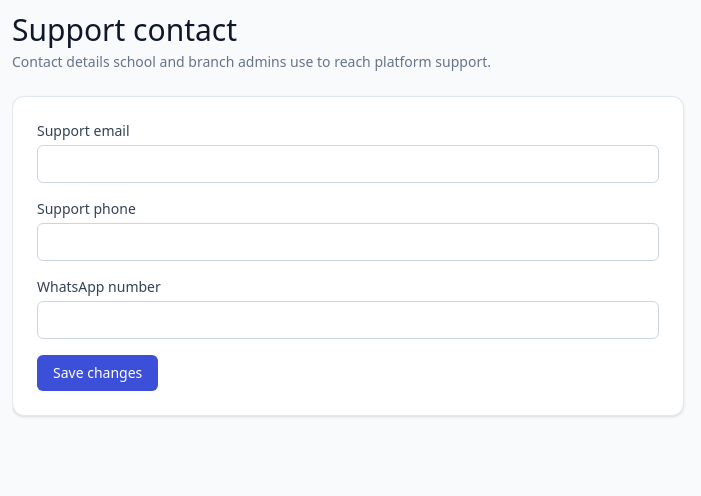
Test: AdminSupportContactPage › loads the current values, edits them, saves, and shows a success alert
In the field labelled "Support email": (348, 164) [37,145,659,183], type "support@kdlms.com"
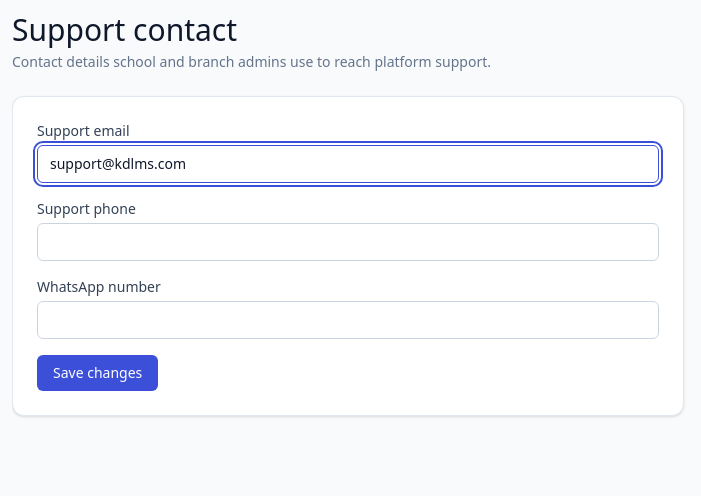
In the field labelled "Support phone": (348, 242) [37,223,659,261], type "+2348012345678"
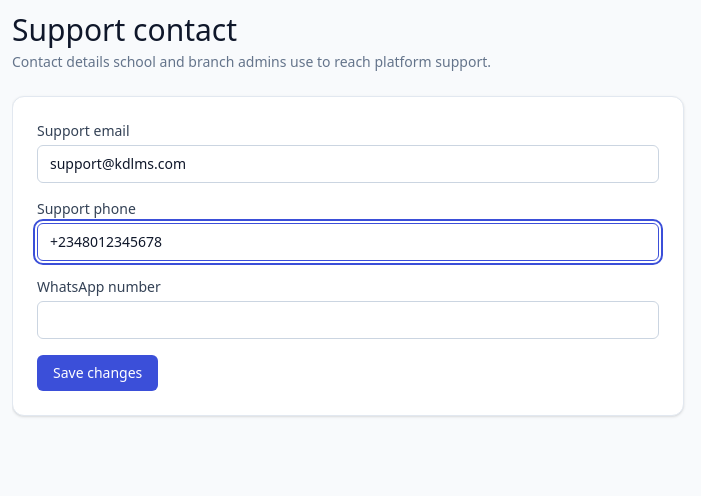
In the field labelled "WhatsApp number": (348, 320) [37,301,659,339], type "+2348012345678"
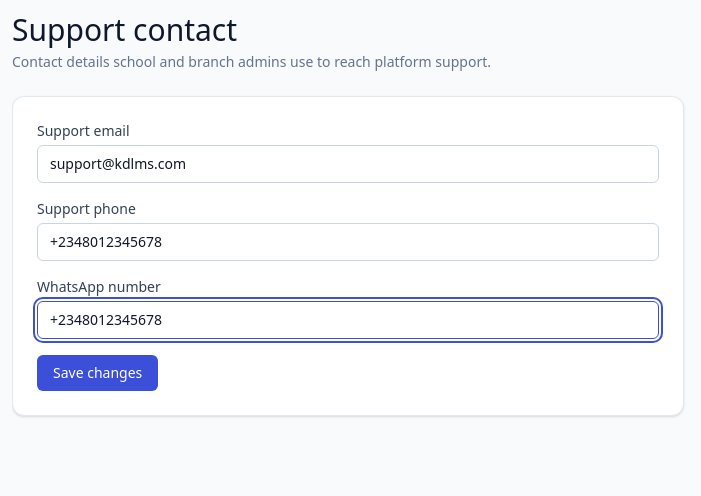
Click the button "Save changes": (98, 373) [37,355,158,391]
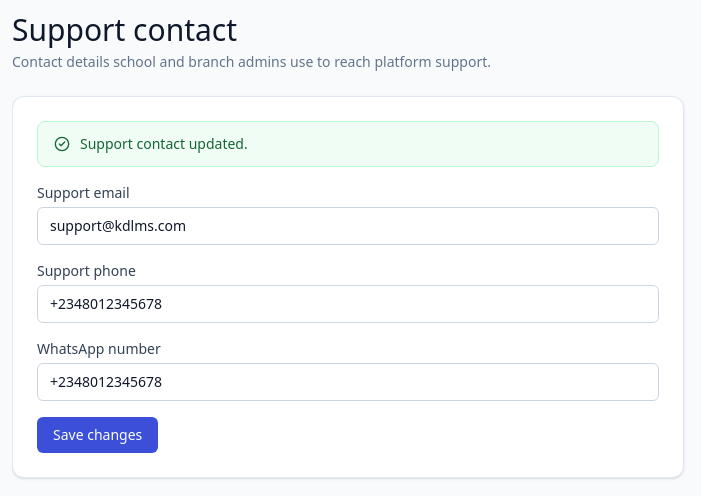
Now the text "Support contact updated." is shown, box [80,134,248,154]
